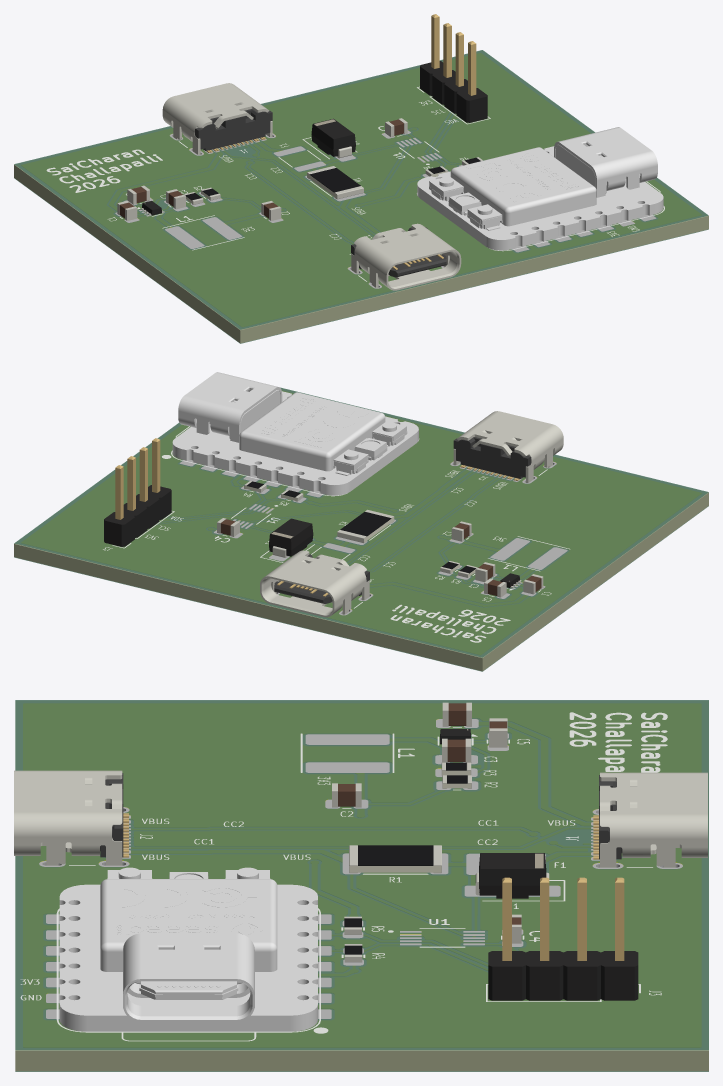
The model's file is powersense.glb.
3 renders of one model, top to bottom at view 1: azimuth 30°, elevation 25°; view 2: azimuth 150°, elevation 25°; view 3: azimuth 270°, elevation 25°, orthographic. The views are drawn at different scales.
Visible parts, largest first — view 1: =>[0:1:1:15], =>[0:1:1:11], U3, =>[0:1:1:17], J1, J2, J3, =>[0:1:1:12], =>[0:1:1:14], D1, R1, =>[0:1:1:16]; view 2: =>[0:1:1:15], =>[0:1:1:11], U3, =>[0:1:1:17], J2, J1, J3, =>[0:1:1:12], =>[0:1:1:14], D1, R1, =>[0:1:1:16]; view 3: =>[0:1:1:15], =>[0:1:1:11], U3, =>[0:1:1:17], J3, J2, J1, =>[0:1:1:12], =>[0:1:1:14], D1, R1, C1 (+3 smaller).
Boxes of the visible parts, x1,y1,x2,y2 form: =>[0:1:1:15]: [14, 50, 708, 329]; =>[0:1:1:11]: [21, 53, 700, 326]; U3: [417, 127, 663, 250]; =>[0:1:1:17]: [14, 51, 708, 343]; J1: [162, 83, 272, 154]; J2: [351, 223, 461, 290]; J3: [420, 14, 487, 122]; =>[0:1:1:12]: [115, 130, 656, 288]; =>[0:1:1:14]: [46, 86, 664, 281]; D1: [311, 118, 355, 158]; R1: [307, 166, 363, 199]; =>[0:1:1:16]: [14, 178, 708, 343]; =>[0:1:1:15]: [14, 387, 708, 657]; =>[0:1:1:11]: [22, 391, 701, 654]; U3: [172, 372, 418, 495]; =>[0:1:1:17]: [14, 389, 708, 671]; J2: [453, 411, 563, 482]; J1: [260, 550, 369, 617]; J3: [104, 438, 171, 546]; =>[0:1:1:12]: [179, 460, 567, 615]; =>[0:1:1:14]: [103, 426, 570, 642]; D1: [269, 518, 313, 557]; R1: [337, 509, 394, 543]; =>[0:1:1:16]: [14, 506, 708, 671]; =>[0:1:1:15]: [15, 700, 708, 1050]; =>[0:1:1:11]: [23, 704, 700, 1047]; U3: [59, 867, 317, 1031]; =>[0:1:1:17]: [15, 701, 708, 1071]; J3: [488, 877, 638, 1000]; J2: [14, 770, 128, 865]; J1: [593, 772, 707, 867]; =>[0:1:1:12]: [39, 719, 682, 1018]; =>[0:1:1:14]: [20, 712, 667, 1041]; D1: [475, 853, 549, 898]; R1: [349, 845, 441, 873]; C1: [442, 702, 471, 726].
Size of the model in its own units: 0.0561 by 0.0115 by 0.0471.
